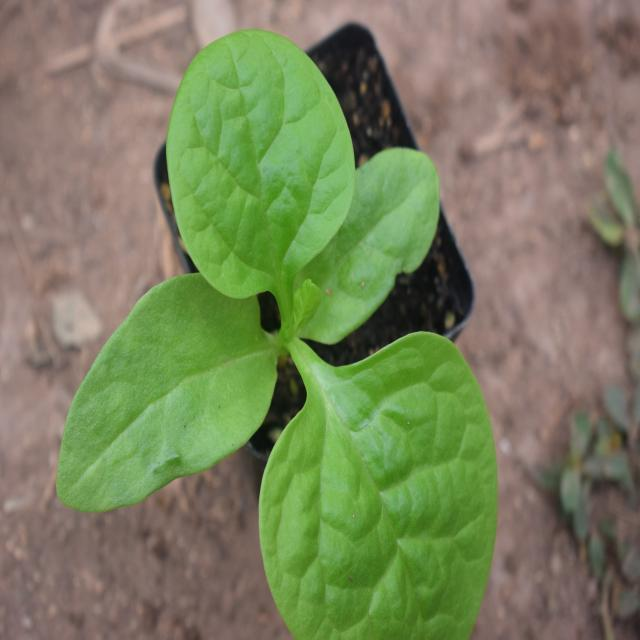Ceylon spinach: (50, 28, 498, 630)
